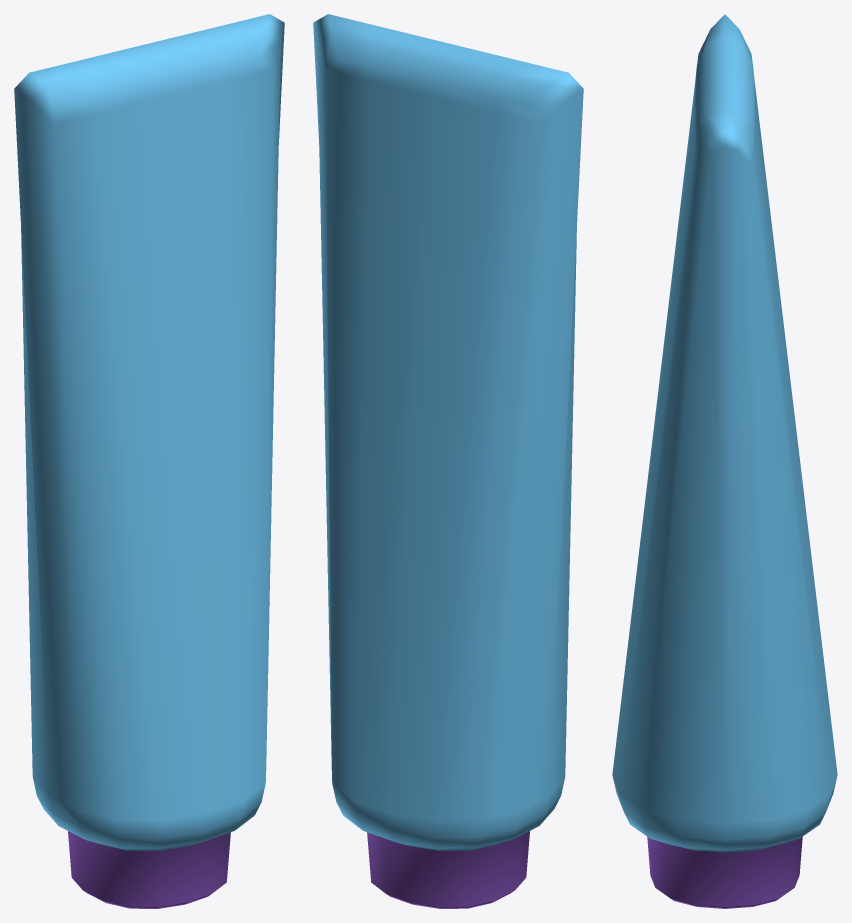
The model's file is Public_15_Bottle_5.glb.
3 views of the same model, side by side, from view 1: azimuth 30°, elevation 25°; view 2: azimuth 150°, elevation 25°; view 3: azimuth 270°, elevation 25° (orthographic). The views are drawn at different scales.
Parts seen in each view (by area): view 1: Public_15_Bottle_5; view 2: Public_15_Bottle_5; view 3: Public_15_Bottle_5.
Boxes of the visible parts, x1,y1,x2,y2 form: Public_15_Bottle_5: [14, 14, 284, 908]; Public_15_Bottle_5: [313, 14, 583, 908]; Public_15_Bottle_5: [612, 14, 837, 908].
Bounding box in the file's own units: 1.15 × 3.4 × 0.859.
1 material, 1 textured.
